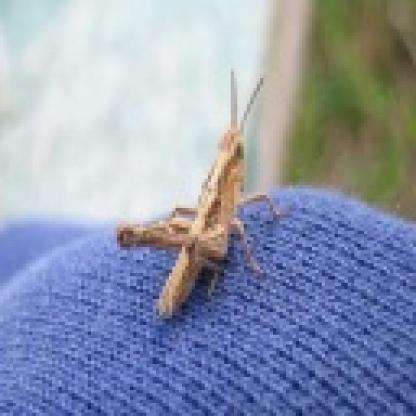grasshopper: (116, 66, 272, 317)
